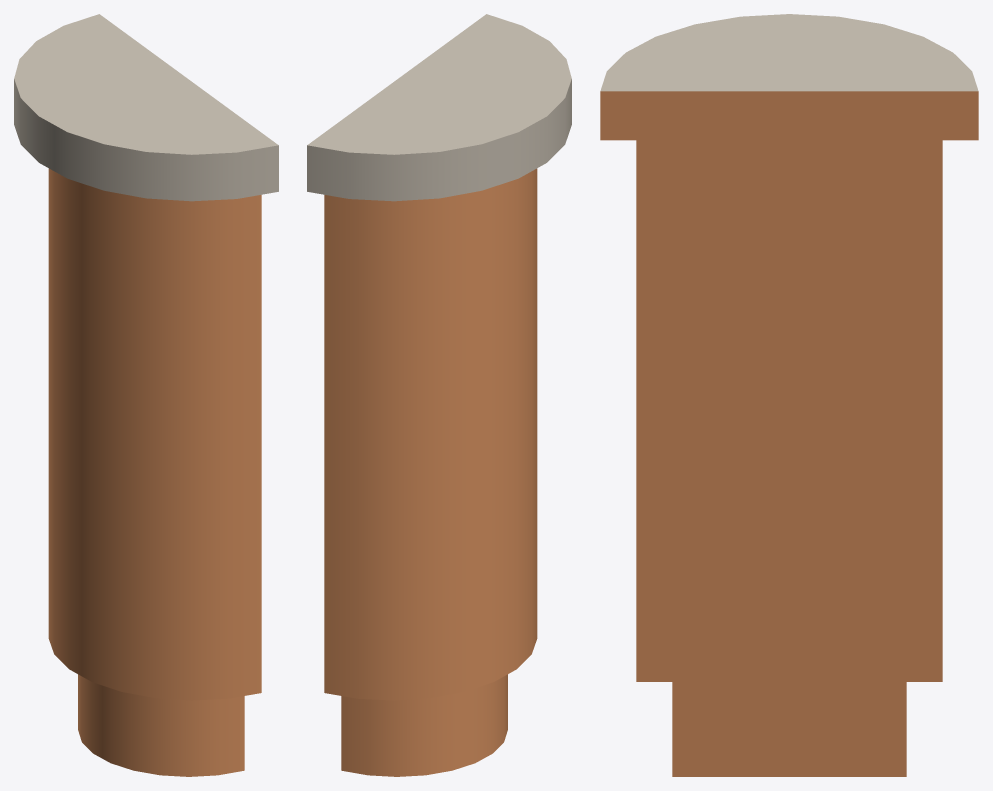
File: kitchenBarEnd.glb
3 renders of one model, left to right at view 1: azimuth 30°, elevation 25°; view 2: azimuth 150°, elevation 25°; view 3: azimuth 270°, elevation 25°, orthographic. The views are drawn at different scales.
Parts seen in each view (by area): view 1: kitchenBarEnd; view 2: kitchenBarEnd; view 3: kitchenBarEnd.
Boxes of the visible parts, left/top/right/bottom form: kitchenBarEnd: left=14, top=14, right=278, bottom=776; kitchenBarEnd: left=307, top=14, right=571, bottom=776; kitchenBarEnd: left=600, top=14, right=978, bottom=776.
Size of the model in its own units: 0.2031 by 0.84 by 0.42.
